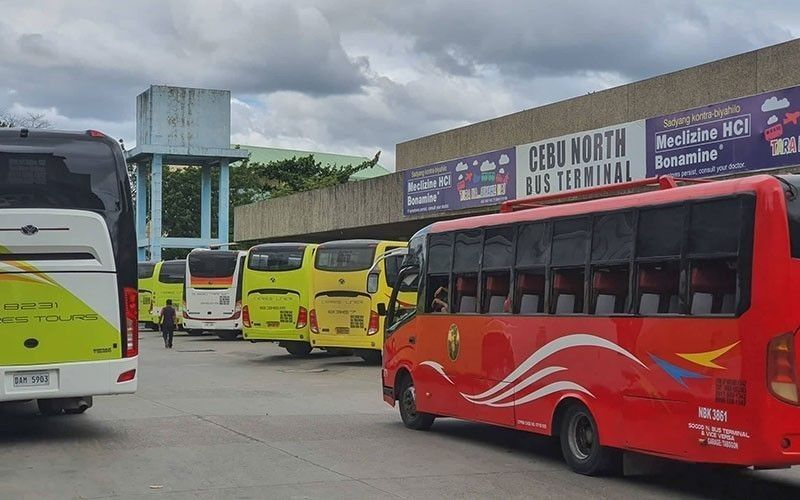bus: (381, 175, 800, 468), (1, 129, 140, 417), (309, 243, 418, 347), (243, 245, 314, 354), (181, 249, 244, 338)
person: (155, 300, 180, 350)
tree branches: (278, 158, 342, 186)
